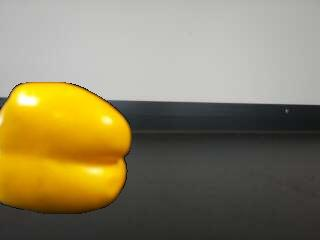Capsicum: (0, 82, 133, 215)
